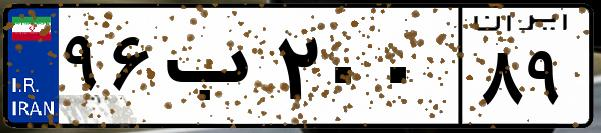0: (385, 28, 445, 110), (330, 28, 385, 110)
2: (270, 28, 330, 110)
6: (110, 28, 158, 98)
8: (475, 38, 525, 113)
9: (57, 26, 110, 100), (525, 38, 570, 115)
ب: (158, 20, 270, 120)
